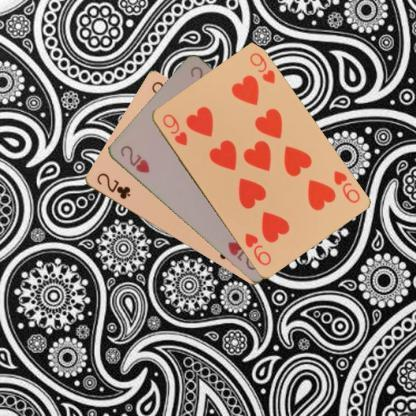2c: (93, 170, 132, 201)
2h: (118, 142, 150, 174)
9h: (330, 168, 362, 204), (160, 111, 188, 147)
